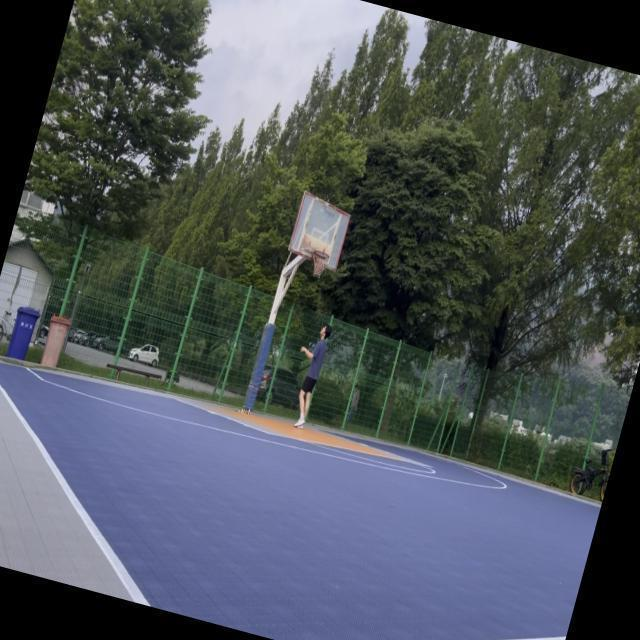Ball: (313, 260, 325, 278)
